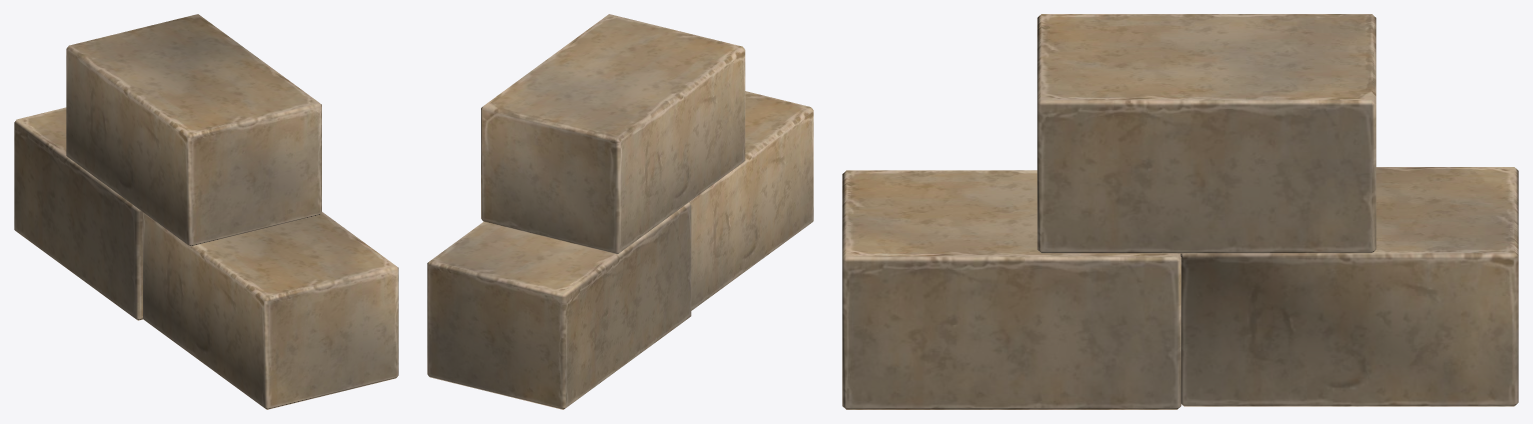
Rendered from SM_construction_block_04.glb.
The picture shows the model from 3 angles, left to right: view 1: azimuth 30°, elevation 25°; view 2: azimuth 150°, elevation 25°; view 3: azimuth 270°, elevation 25°; orthographic projection. The views are drawn at different scales.
Visible parts, largest first — view 1: SM_construction_block_04; view 2: SM_construction_block_04; view 3: SM_construction_block_04.
Boxes of the visible parts, x1,y1,x2,y2 form: SM_construction_block_04: [14, 14, 398, 409]; SM_construction_block_04: [427, 14, 813, 409]; SM_construction_block_04: [842, 14, 1518, 409].
Bounding box in the file's own units: 1.56 × 2.39 × 4.79.
1 material, 1 textured.
